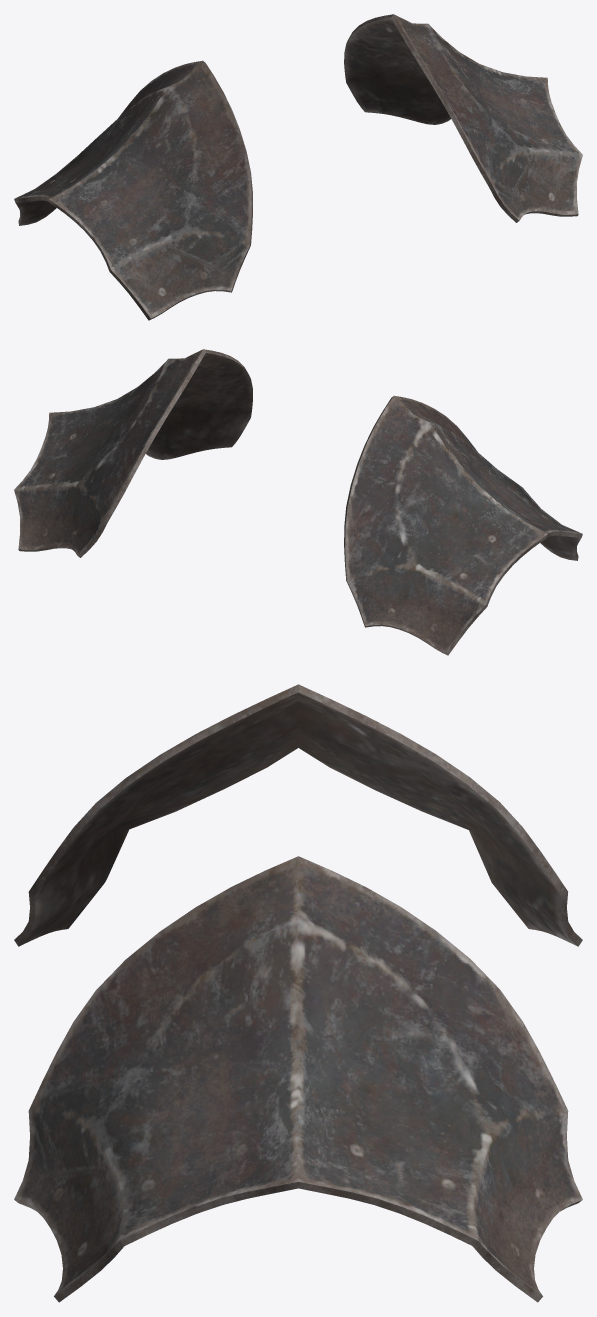
The model's file is sk_dg_uruk_pauldron_med_b.fbx.
3 renders of one model, top to bottom at view 1: azimuth 30°, elevation 25°; view 2: azimuth 150°, elevation 25°; view 3: azimuth 270°, elevation 25°, orthographic. The views are drawn at different scales.
Visible parts, largest first — view 1: sk_dg_uruk_pauldron_med_b; view 2: sk_dg_uruk_pauldron_med_b; view 3: sk_dg_uruk_pauldron_med_b.
Part boxes in pixels (x1=…): sk_dg_uruk_pauldron_med_b: x1=14, y1=14, x2=582, y2=320; sk_dg_uruk_pauldron_med_b: x1=14, y1=349, x2=582, y2=655; sk_dg_uruk_pauldron_med_b: x1=14, y1=684, x2=582, y2=1302.
Size of the model in its own units: 0.6443 by 0.3448 by 0.2267.
Materials: 1 (1 with a texture image).
